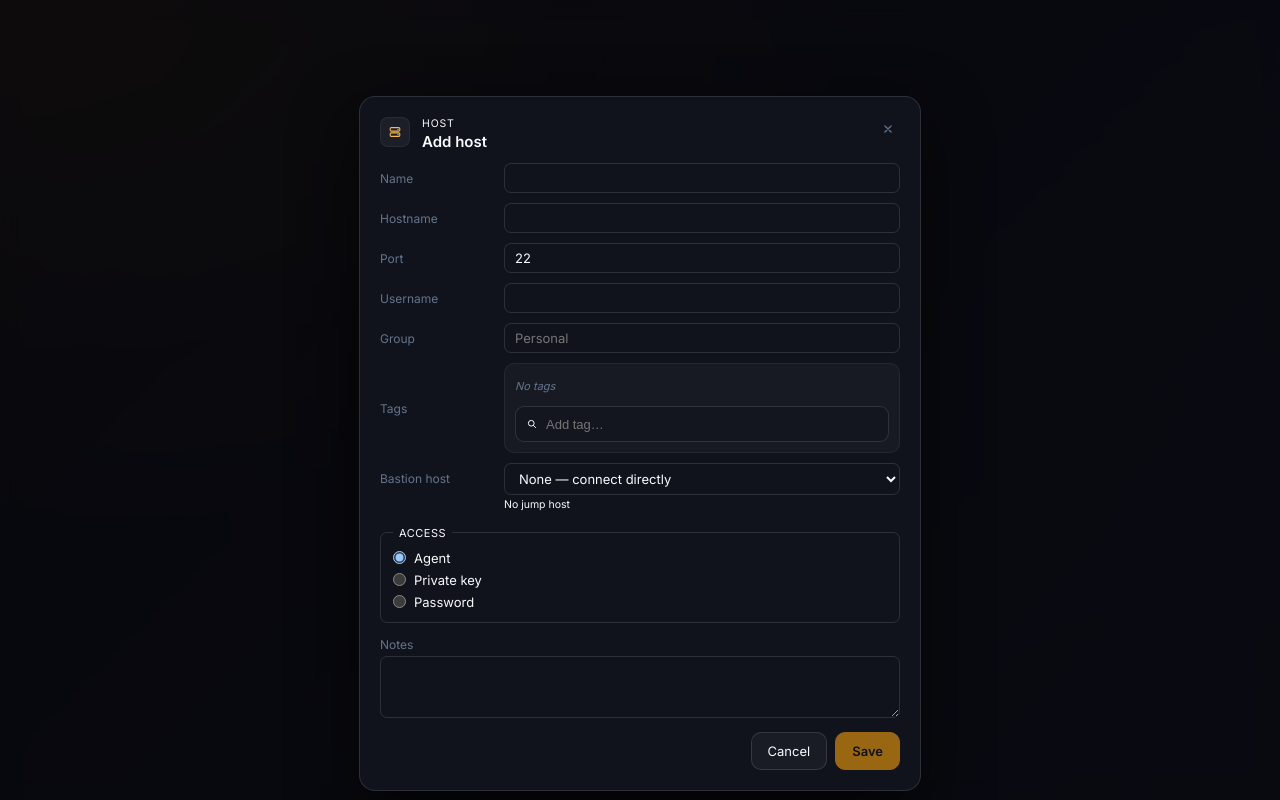
it: HostFormModal › switching auth to key shows key_path input and requires it
This screenshot has width=1280, height=800.
In the field labelled "Name": (702, 178) [504, 163, 900, 193], type "x"
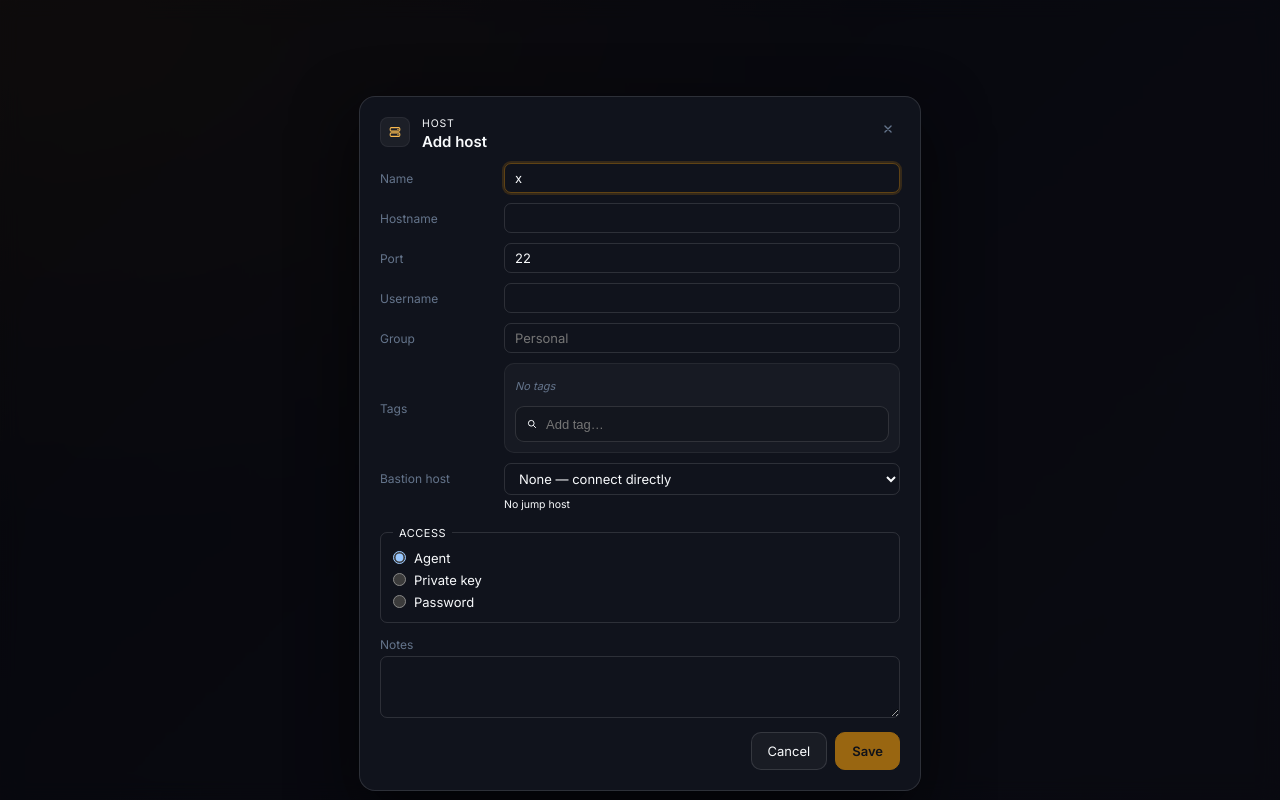
In the field labelled "Hostname": (702, 218) [504, 203, 900, 233], type "h"
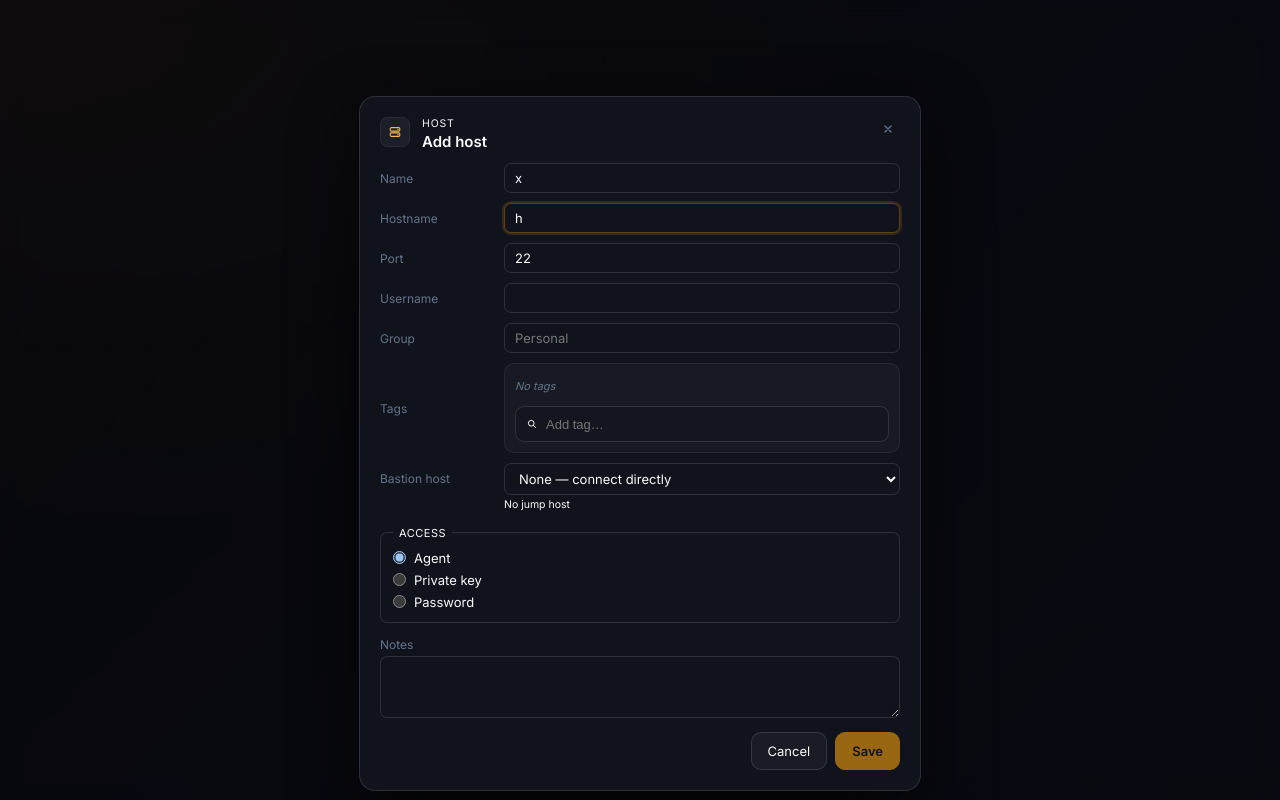
In the field labelled "Username": (702, 298) [504, 283, 900, 313], type "u"
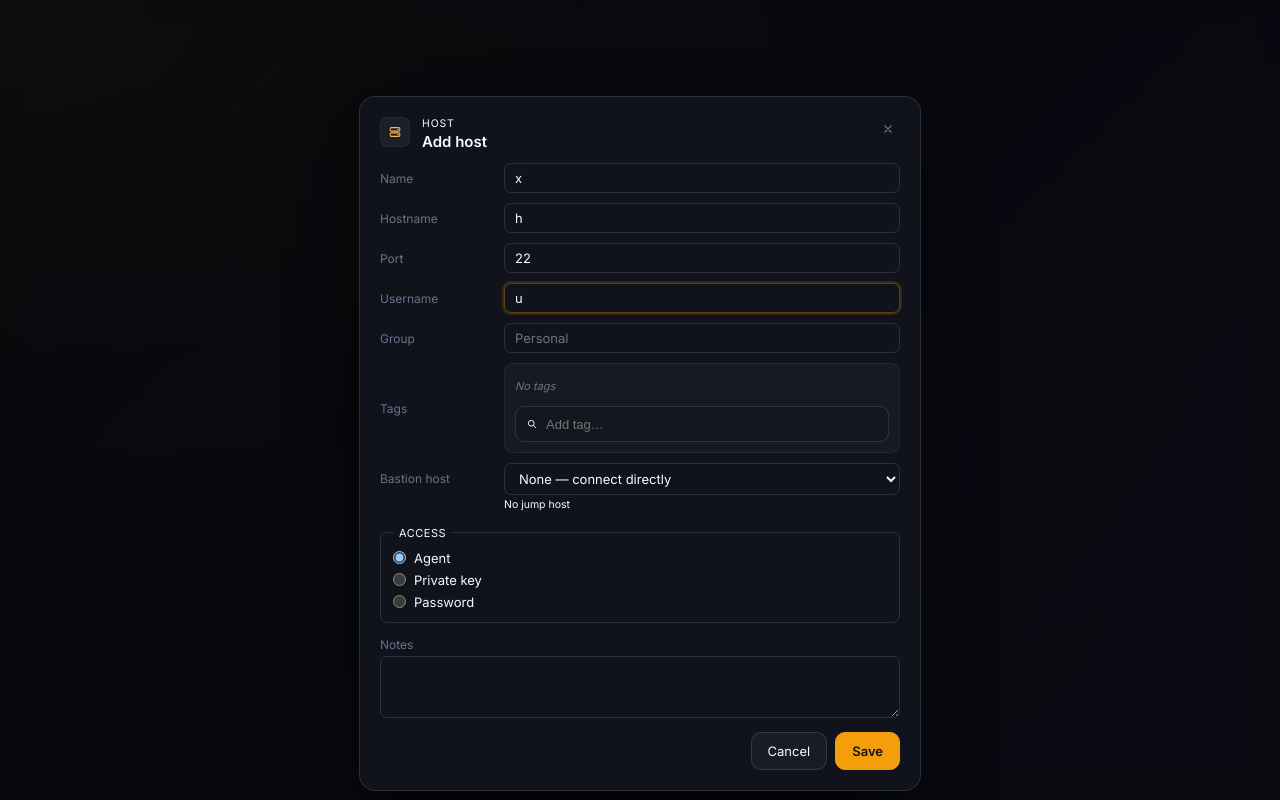
Click the radio button labelled "Private key": (400, 580) [393, 573, 406, 586]
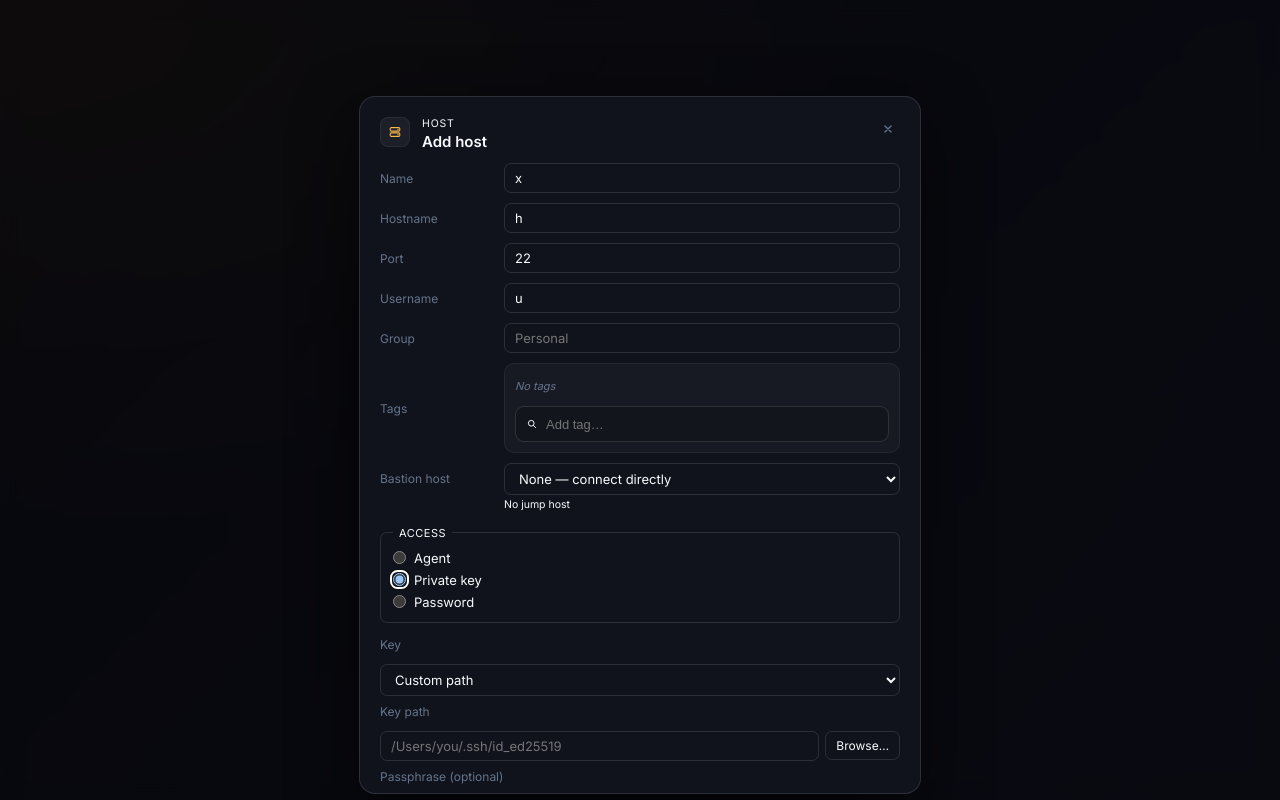
In the field labelled "Key path": (600, 746) [380, 731, 819, 761], type "/Users/u/.ssh/id_ed25519"
(page scrolled)
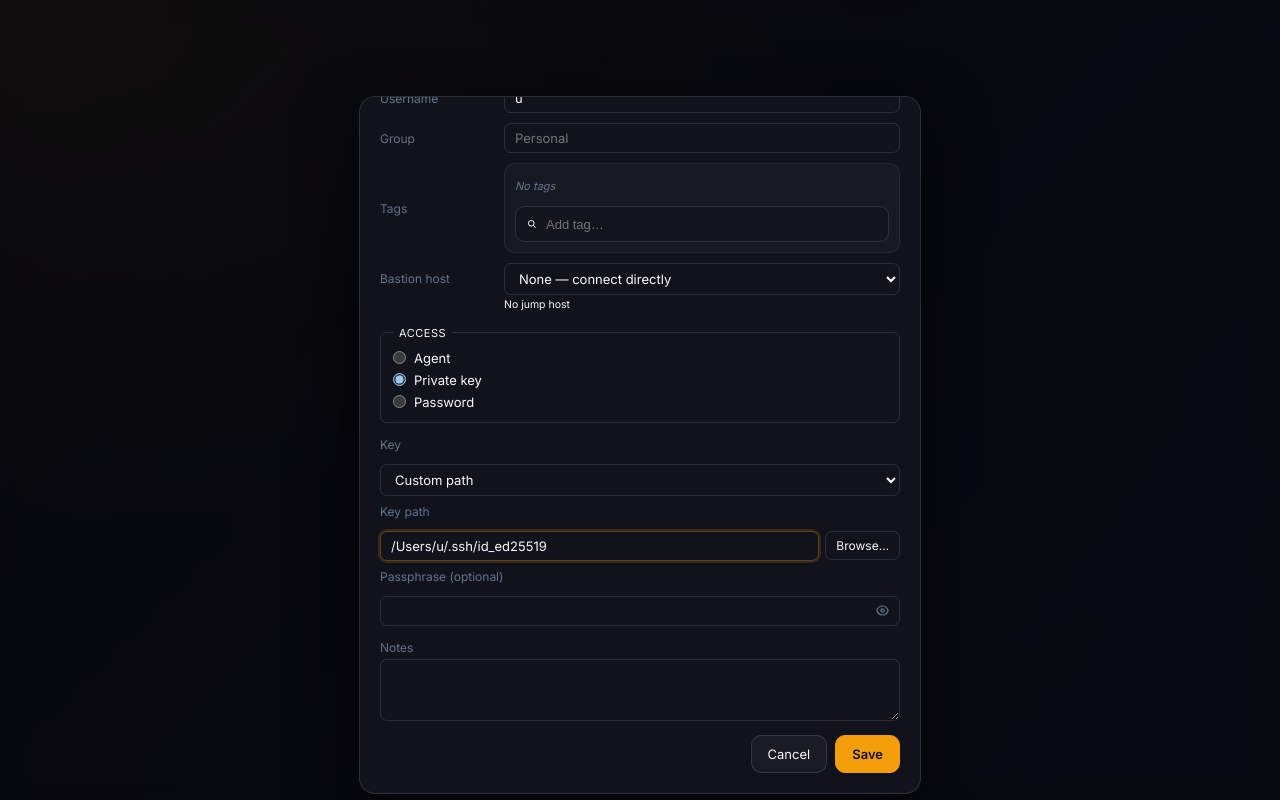
Expected: the button "Save" is enabled, [835, 735, 900, 773]
